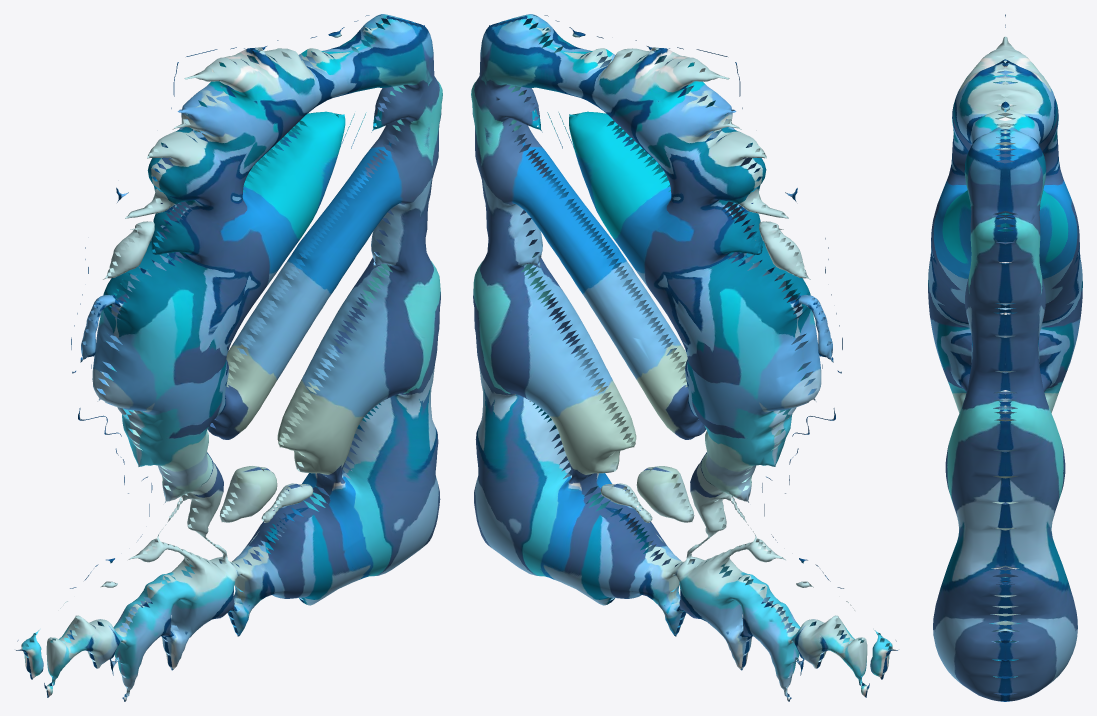
File: ice_cliff.glb
3 views of the same model, side by side, from view 1: azimuth 30°, elevation 25°; view 2: azimuth 150°, elevation 25°; view 3: azimuth 270°, elevation 25° (orthographic). The views are drawn at different scales.
Parts seen in each view (by area): view 1: ice_cliff; view 2: ice_cliff; view 3: ice_cliff.
Boxes of the visible parts, bbox=[...] form: ice_cliff: bbox=[16, 14, 442, 701]; ice_cliff: bbox=[471, 14, 897, 701]; ice_cliff: bbox=[928, 14, 1082, 701].
Size of the model in its own units: 0.9844 by 1.4 by 0.2962.
Materials: 1 (1 with a texture image).
